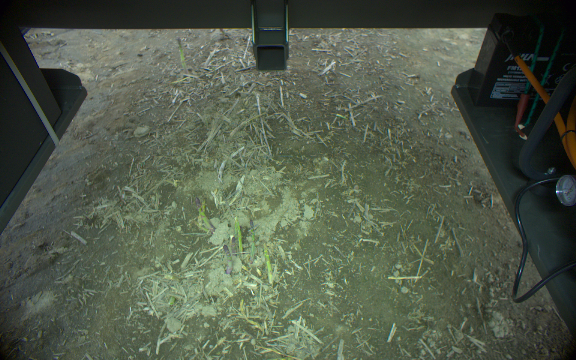aspa: (191, 195, 215, 233), (174, 37, 190, 78), (261, 244, 274, 285), (233, 216, 244, 258), (247, 217, 255, 266), (219, 244, 232, 274), (229, 235, 237, 256)
